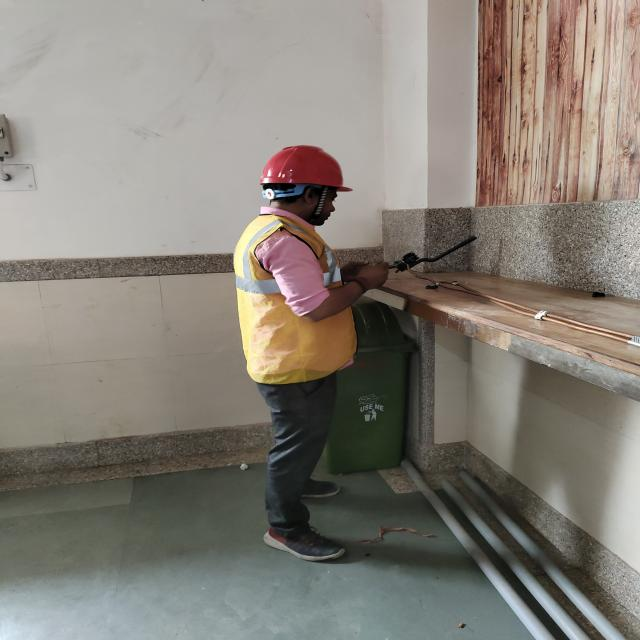safe: (234, 145, 388, 561)
